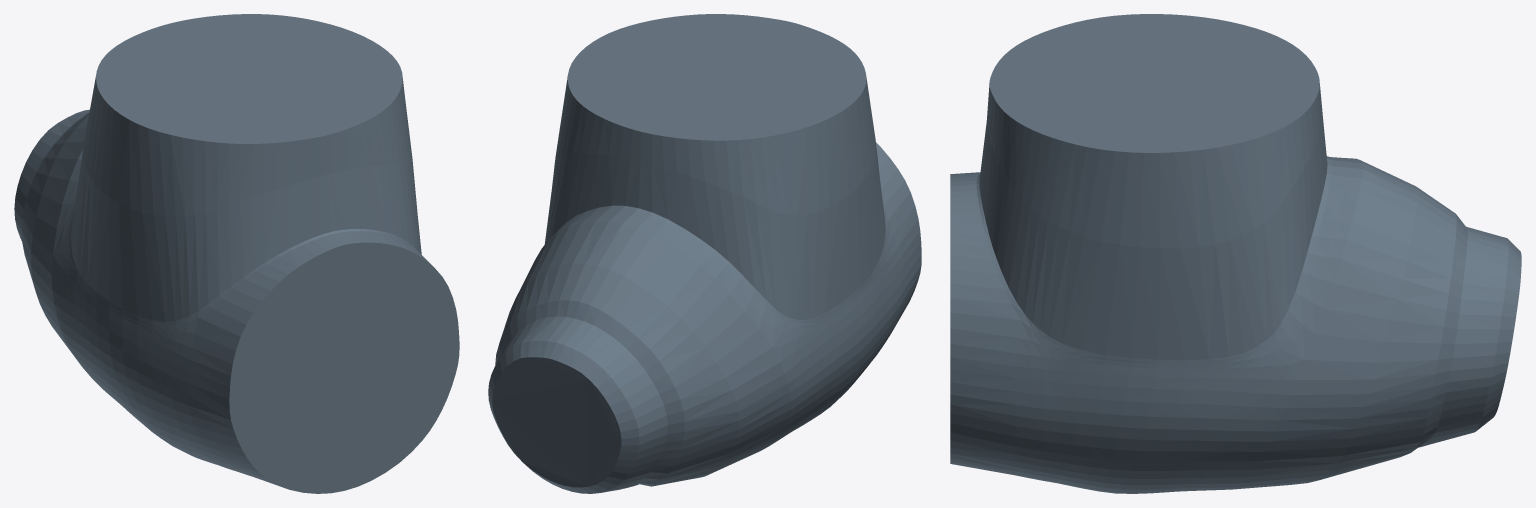
3 views of the same model, side by side, from view 1: azimuth 30°, elevation 25°; view 2: azimuth 150°, elevation 25°; view 3: azimuth 270°, elevation 25° (orthographic). The views are drawn at different scales.
Parts seen in each view (by area): view 1: MF0609_5_0; view 2: MF0609_5_0; view 3: MF0609_5_0.
Boxes of the visible parts, x1,y1,x2,y2 form: MF0609_5_0: (14, 14, 459, 493); MF0609_5_0: (488, 14, 921, 493); MF0609_5_0: (950, 14, 1521, 493).
Size of the model in its own units: 106 by 173 by 132.
